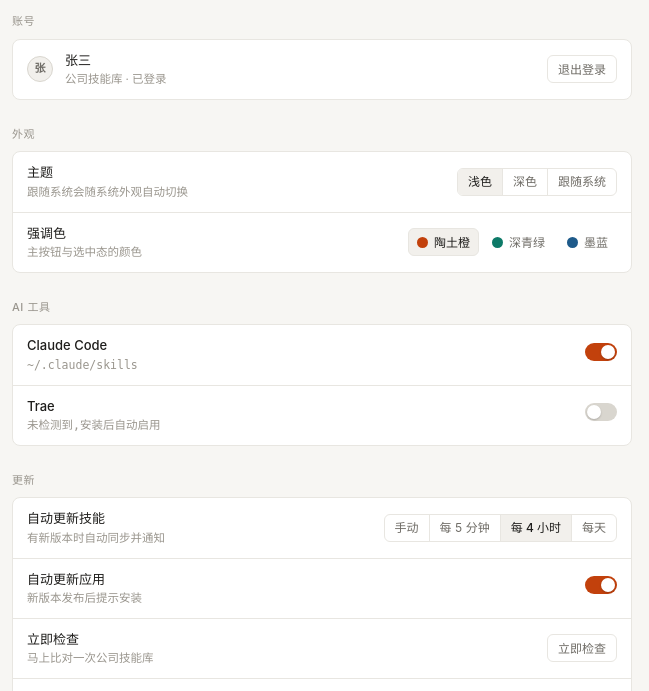
Test case: 设置页 · 账号区 › 已登录:显示用户名,点「退出登录」调 auth_logout 并回到登录入口
Expected: the text "张三" is shown, [65, 52, 91, 68]
Step 1. Click the button "退出登录" → click(582, 69), box [547, 55, 617, 83]
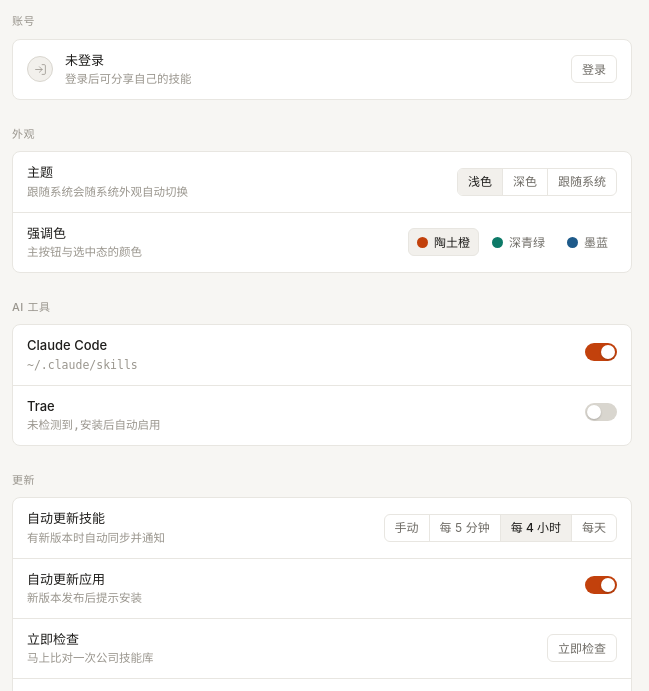
Expected: the button "登录" is shown, [571, 55, 617, 83]
Now the text "张三" is gone
